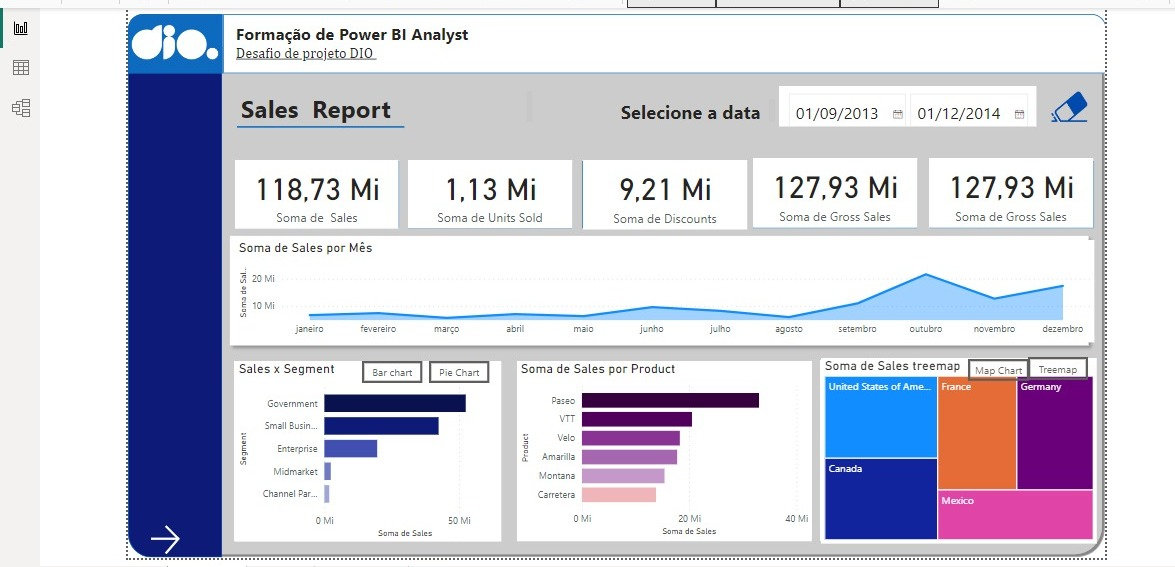

Layout of this report page (visuals, bound fields, positions):
{"tool":"powerbi","page":{"name":"vendas ","canvas":[1280,720],"ordinal":0},"visuals":[{"type":"shape","box":[47.1,45.7,1232.9,674.3],"z":0},{"type":"image","title":"clean","box":[1201.7,100.9,59.8,57.1],"z":0,"group":"g2"},{"type":"shape","box":[1049.3,201.3,214.8,88.1],"z":0,"group":"g1"},{"type":"map","title":"Sales x Country ","fields":{"Category":["financials.Country"],"Size":["Sum(financials. Sales)"]},"box":[905.7,460.6,348.6,237.1],"z":0,"group":"g3"},{"type":"shape","box":[0,34.2,123.4,685.3],"z":1000},{"type":"slicer","fields":{"Values":["financials.Date"]},"box":[852.4,102.2,337.3,53.1],"z":1000,"group":"g2"},{"type":"shape","box":[817.7,201.3,214.8,88.1],"z":1000,"group":"g1"},{"type":"treemap","title":"Soma de  Sales treemap","fields":{"Group":["financials.Country"],"Values":["Sum(financials. Sales)"]},"box":[907.5,458.3,361.4,242.9],"z":1000,"group":"g3"},{"type":"donutChart","title":" Sales X Segment pie","fields":{"Y":["Sum(financials. Sales)"],"Category":["financials.Segment"]},"box":[140.3,461.8,343.7,236.3],"z":1000,"group":"g4"},{"type":"actionButton","title":"botão- map ","box":[1178.1,457.1,78.6,30],"z":1250,"group":"g3"},{"type":"actionButton","title":"botão- treemap","box":[1099.6,460,80,28.6],"z":1500,"group":"g3"},{"type":"clusteredBarChart","title":"Sales x Segment","fields":{"Y":["Sum(financials. Sales)"],"Category":["financials.Segment"]},"box":[139.7,462.2,348.5,236.2],"z":1500,"group":"g4"},{"type":"shape","box":[123.8,7.2,1156.3,77.8],"z":2000},{"type":"textbox","box":[640,114.2,212.4,41.2],"z":2000,"group":"g2"},{"type":"shape","box":[594.5,201.3,214.8,88.1],"z":2000,"group":"g1"},{"type":"actionButton","title":"Botão-pie","box":[393.1,462.2,79.2,28.8],"z":2000,"group":"g4"},{"type":"actionButton","title":"Botão-bar","box":[305.3,462.2,79.2,28.8],"z":2500,"group":"g4"},{"type":"textbox","box":[136.8,14.6,335.9,70.4],"z":3000},{"type":"actionButton","box":[1201.7,106.2,62.4,57.1],"z":3000,"group":"g2"},{"type":"shape","box":[366.2,201.3,214.8,88.1],"z":3000,"group":"g1"},{"type":"group","id":"g1","title":"Cartões ","box":[139.6,119.5,1124.6,170],"z":4000},{"type":"shape","box":[139.6,201.3,214.8,88.1],"z":4000,"group":"g1"},{"type":"textbox","box":[142.1,103.6,391.7,51.8],"z":5000},{"type":"shape","box":[142,119.5,219.1,73],"z":5000,"group":"g1"},{"type":"card","fields":{"Values":["Sum(financials.Gross Sales)"]},"box":[1048.3,197.3,214.6,90.7],"z":5125,"group":"g1"},{"type":"card","fields":{"Values":["Sum(financials.Discounts)"]},"box":[594.7,198.8,214.6,90.7],"z":5250,"group":"g1"},{"type":"card","fields":{"Values":["Sum(financials.Gross Sales)"]},"box":[817.9,197.3,214.6,90.7],"z":5375,"group":"g1"},{"type":"card","fields":{"Values":["Sum(financials.Units Sold)"]},"box":[365.8,198.8,214.6,89.3],"z":5500,"group":"g1"},{"type":"card","fields":{"Values":["Sum(financials. Sales)"]},"box":[139.7,199.2,214.4,89.9],"z":6000,"group":"g1"},{"type":"shape","box":[123.8,289.4,1141.9,161.3],"z":6000},{"type":"shape","box":[138.2,462.2,349.9,236.2],"z":7000},{"type":"shape","box":[509.8,462.2,385.9,236.2],"z":8000},{"type":"shape","box":[914.4,462.2,351.4,236.2],"z":9000},{"type":"areaChart","fields":{"Category":["financials.Date.Variation.Hierarquia de datas.Mês"],"Y":["Sum(financials. Sales)"]},"box":[139.7,303.8,1124.6,133.9],"z":10000},{"type":"barChart","fields":{"Y":["Sum(financials. Sales)"],"Category":["financials.Product"]},"box":[509.8,462.2,385.9,233.3],"z":11000},{"type":"group","id":"g2","title":"Filtro por data ","box":[640,100.9,624.1,62.4],"z":12000},{"type":"group","id":"g3","title":"sales x country ","box":[905.7,457.1,363.3,244.1],"z":13000},{"type":"group","id":"g4","title":"Sales x segment ","box":[139.7,461.8,348.5,236.6],"z":14000},{"type":"shape","box":[0,7.2,123.8,77.8],"z":15000},{"type":"actionButton","box":[23,671,76.3,49],"z":16000},{"type":"image","title":"dio","box":[0,5.7,122.9,78.6],"z":17000}]}

Visuals, with their boxes on the page's 1280x720 design canvas (x1, y1, x2, y2). These are canvas units, not pixel positions in the 1175x567 screenshot, which may show the page scaled, cropped or inside an application window:
shape: BBox(47, 46, 1280, 720)
"clean" image: BBox(1202, 101, 1262, 158)
shape: BBox(1049, 201, 1264, 289)
"Sales x Country " map: BBox(906, 461, 1254, 698)
shape: BBox(0, 34, 123, 720)
slicer - financials.Date: BBox(852, 102, 1190, 155)
shape: BBox(818, 201, 1032, 289)
"Soma de  Sales treemap" treemap: BBox(908, 458, 1269, 701)
" Sales X Segment pie" donutChart: BBox(140, 462, 484, 698)
"botão- map " actionButton: BBox(1178, 457, 1257, 487)
"botão- treemap" actionButton: BBox(1100, 460, 1180, 489)
"Sales x Segment" clusteredBarChart: BBox(140, 462, 488, 698)
shape: BBox(124, 7, 1280, 85)
textbox: BBox(640, 114, 852, 155)
shape: BBox(594, 201, 809, 289)
"Botão-pie" actionButton: BBox(393, 462, 472, 491)
"Botão-bar" actionButton: BBox(305, 462, 384, 491)
textbox: BBox(137, 15, 473, 85)
actionButton: BBox(1202, 106, 1264, 163)
shape: BBox(366, 201, 581, 289)
"Cartões " group: BBox(140, 120, 1264, 290)
shape: BBox(140, 201, 354, 289)
textbox: BBox(142, 104, 534, 155)
shape: BBox(142, 120, 361, 192)
card - Sum(financials.Gross Sales): BBox(1048, 197, 1263, 288)
card - Sum(financials.Discounts): BBox(595, 199, 809, 290)
card - Sum(financials.Gross Sales): BBox(818, 197, 1032, 288)
card - Sum(financials.Units Sold): BBox(366, 199, 580, 288)
card - Sum(financials. Sales): BBox(140, 199, 354, 289)
shape: BBox(124, 289, 1266, 451)
shape: BBox(138, 462, 488, 698)
shape: BBox(510, 462, 896, 698)
shape: BBox(914, 462, 1266, 698)
areaChart - financials.Date.Variation.Hierarquia de datas.Mês x Sum(financials. Sales): BBox(140, 304, 1264, 438)
barChart - Sum(financials. Sales) x financials.Product: BBox(510, 462, 896, 696)
"Filtro por data " group: BBox(640, 101, 1264, 163)
"sales x country " group: BBox(906, 457, 1269, 701)
"Sales x segment " group: BBox(140, 462, 488, 698)
shape: BBox(0, 7, 124, 85)
actionButton: BBox(23, 671, 99, 720)
"dio" image: BBox(0, 6, 123, 84)
